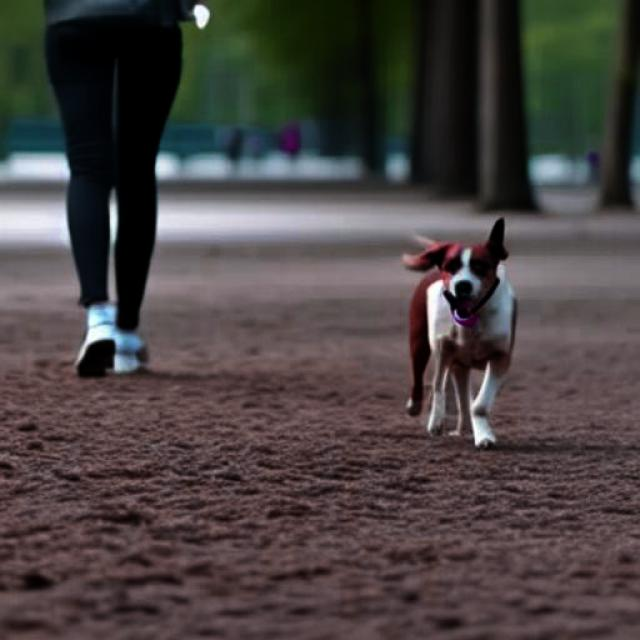Unleashed_Dog: (87, 39, 520, 452)
